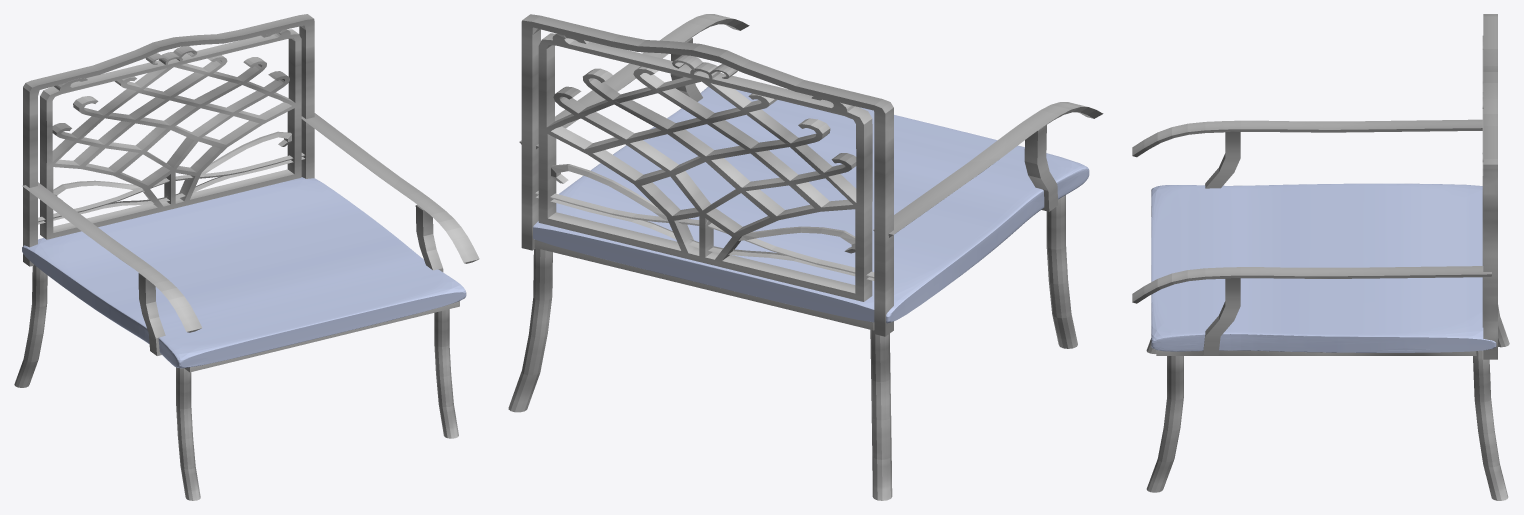
File: sh-contrib-lattice-chair.glb
3 views of the same model, side by side, from view 1: azimuth 30°, elevation 25°; view 2: azimuth 150°, elevation 25°; view 3: azimuth 270°, elevation 25° (orthographic). The views are drawn at different scales.
Visible parts, largest first — view 1: PolyMesh_1, PolyMesh_2; view 2: PolyMesh_1, PolyMesh_2; view 3: PolyMesh_2, PolyMesh_1.
Part boxes in pixels (x1,y1,x2,y2): PolyMesh_1: [14, 14, 479, 500]; PolyMesh_2: [22, 177, 466, 368]; PolyMesh_1: [508, 14, 1103, 500]; PolyMesh_2: [533, 86, 1089, 323]; PolyMesh_2: [1151, 183, 1496, 352]; PolyMesh_1: [1132, 14, 1509, 500].
Size of the model in its own units: 1 by 1 by 1.
2 materials, 2 textured.
